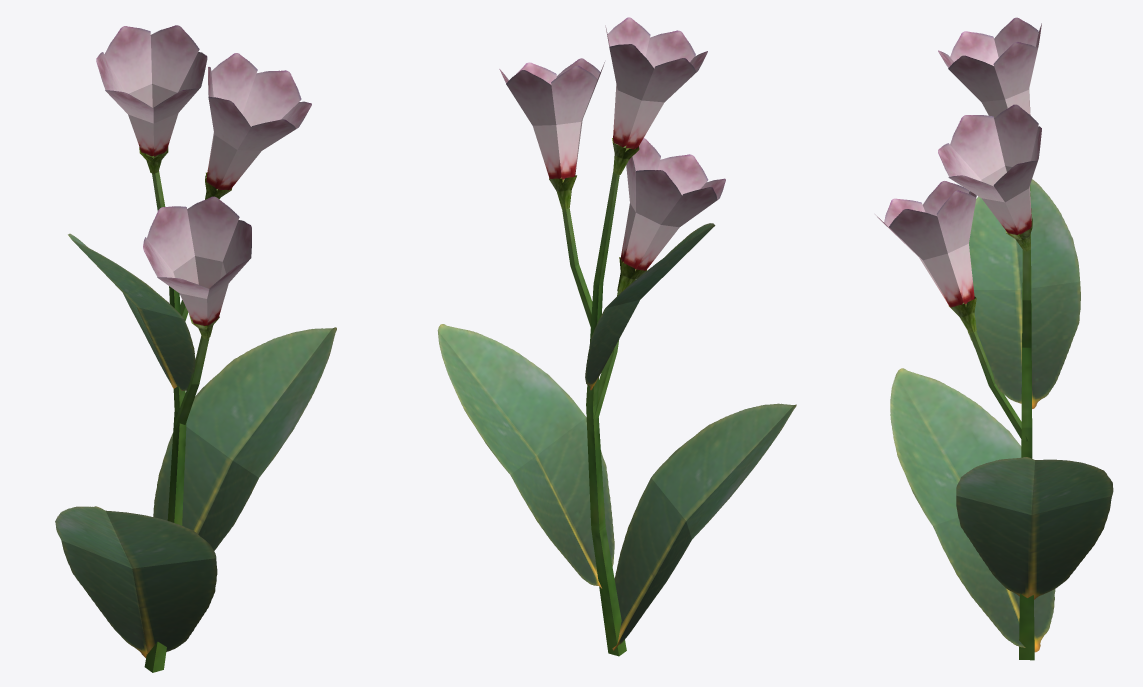
Rendered from bellf4.fbx.
3 renders of one model, left to right at view 1: azimuth 30°, elevation 25°; view 2: azimuth 150°, elevation 25°; view 3: azimuth 270°, elevation 25°, orthographic. The views are drawn at different scales.
Parts seen in each view (by area): view 1: bellflower04; view 2: bellflower04; view 3: bellflower04.
Boxes of the visible parts, x1,y1,x2,y2 form: bellflower04: [55, 25, 336, 672]; bellflower04: [437, 17, 796, 656]; bellflower04: [875, 17, 1113, 660].
Bounding box in the file's own units: 27.51 × 47.6 × 19.95.
